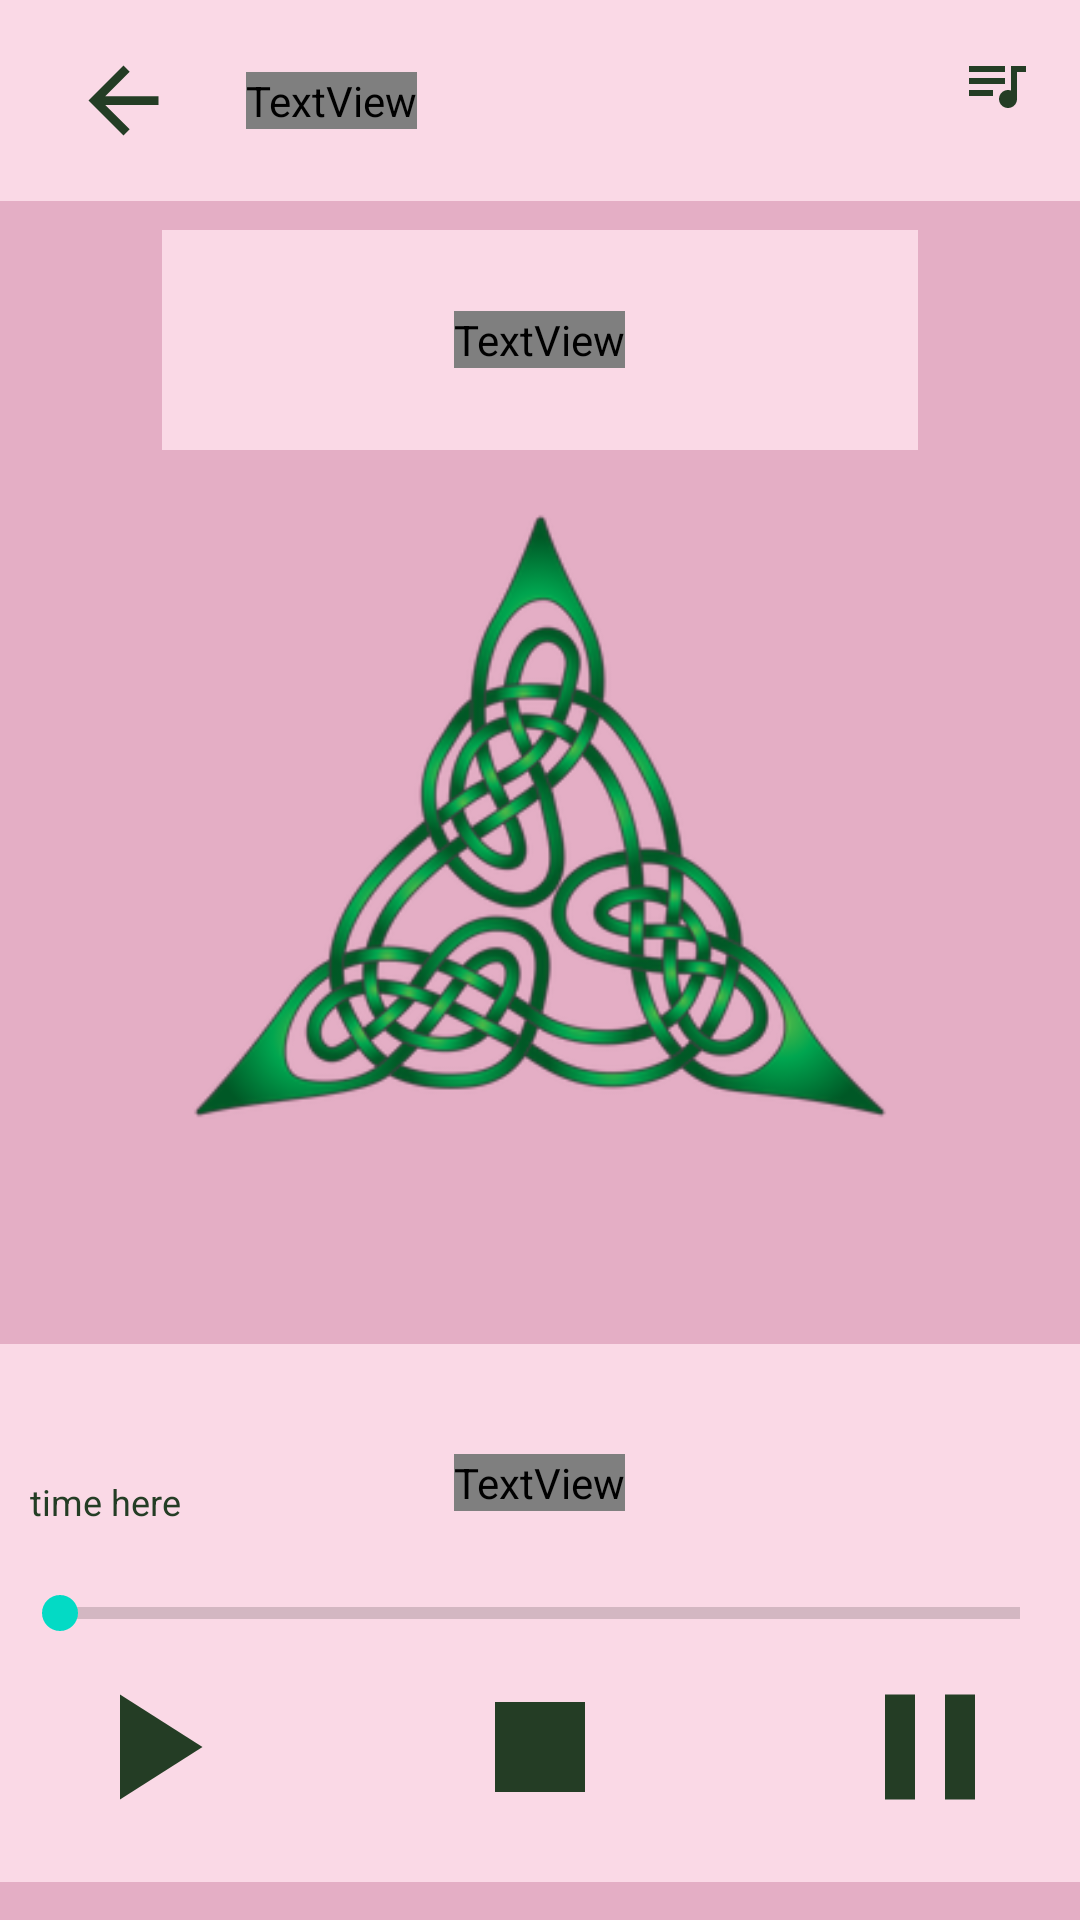

Icon click points for this 1080px x 1920px phone screenshot, format (x=x, y=y):
arrow back: (x=123, y=100)
pause: (x=930, y=1747)
play arrow: (x=161, y=1747)
queue music: (x=997, y=87)
